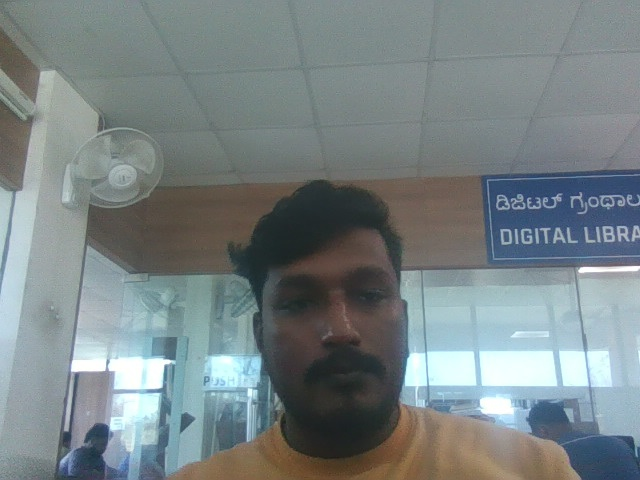real: (238, 163, 431, 436)
